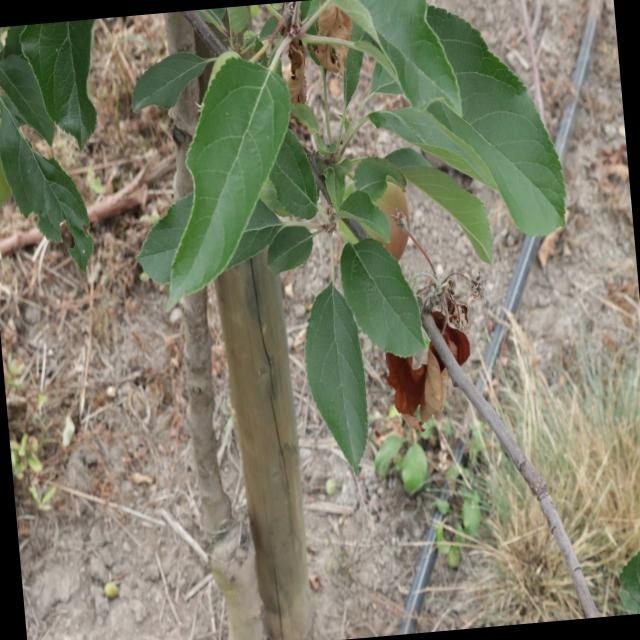-FireBlight-: (395, 306, 471, 440), (308, 6, 353, 61)
